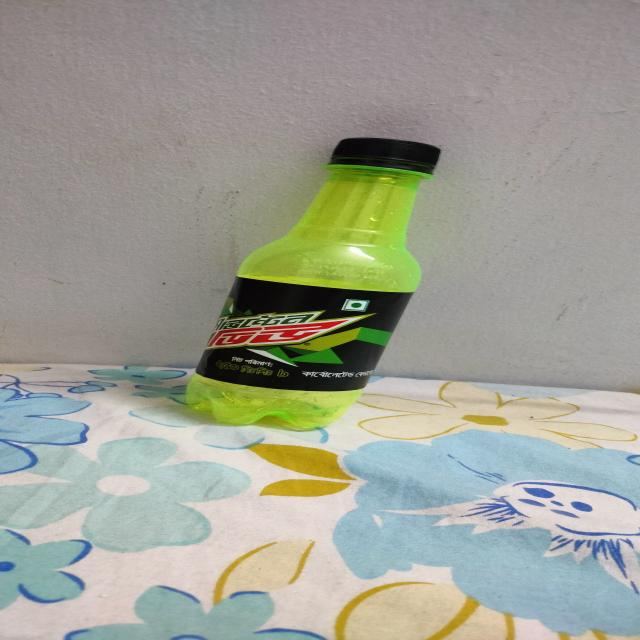Bottle: (180, 136, 442, 427)
